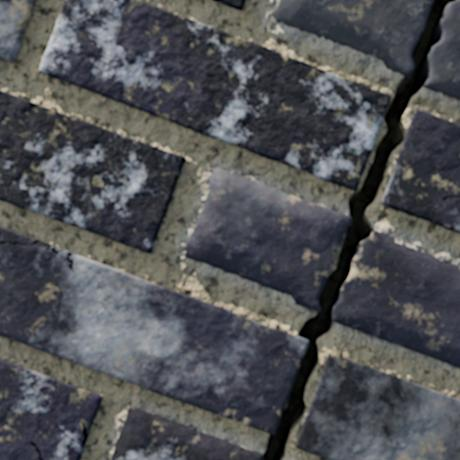brick: (40, 0, 389, 189), (0, 243, 307, 432), (0, 91, 184, 252), (296, 354, 459, 459), (0, 360, 101, 459), (382, 110, 459, 232), (0, 0, 35, 62), (0, 227, 33, 241), (215, 0, 244, 9)
broken_brick: (185, 167, 350, 311), (334, 229, 459, 368), (272, 0, 431, 75), (110, 406, 262, 459), (424, 0, 459, 100)
crack: (262, 0, 457, 459), (0, 239, 76, 272), (54, 420, 88, 448), (28, 440, 44, 459), (320, 373, 329, 394)
